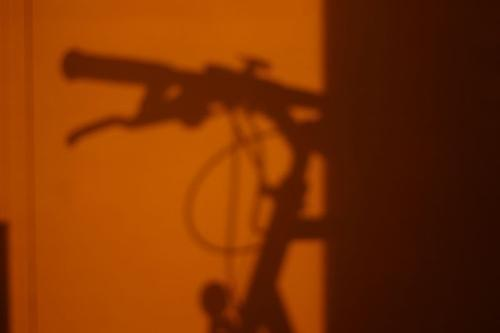bicycle: (64, 48, 328, 329)
